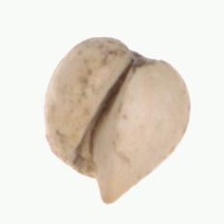L3: (60, 151, 110, 204)
L4: (45, 37, 191, 204)
